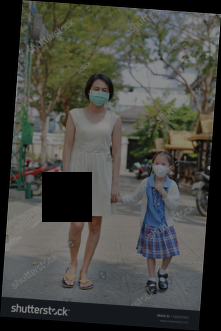with_mask: (89, 86, 110, 106), (152, 160, 170, 178)
